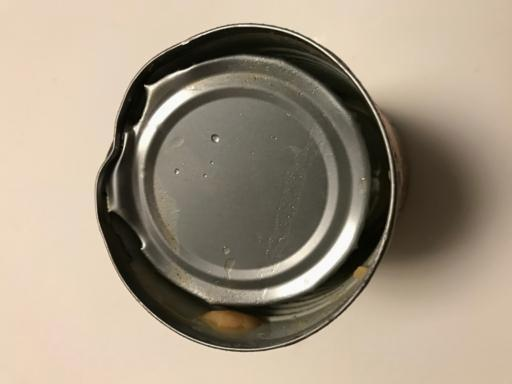metal: (96, 22, 407, 354)
